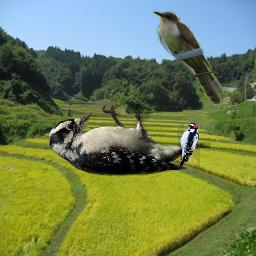Cuckoo: (152, 9, 226, 106)
Woodpecker: (49, 104, 211, 176), (177, 123, 200, 169)
